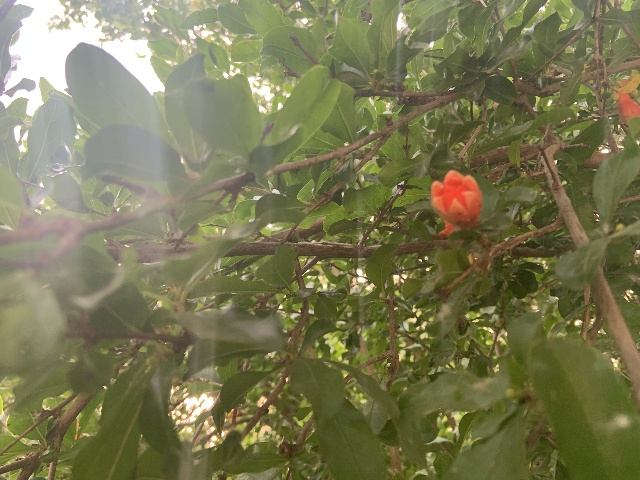flower: (430, 169, 483, 234)
